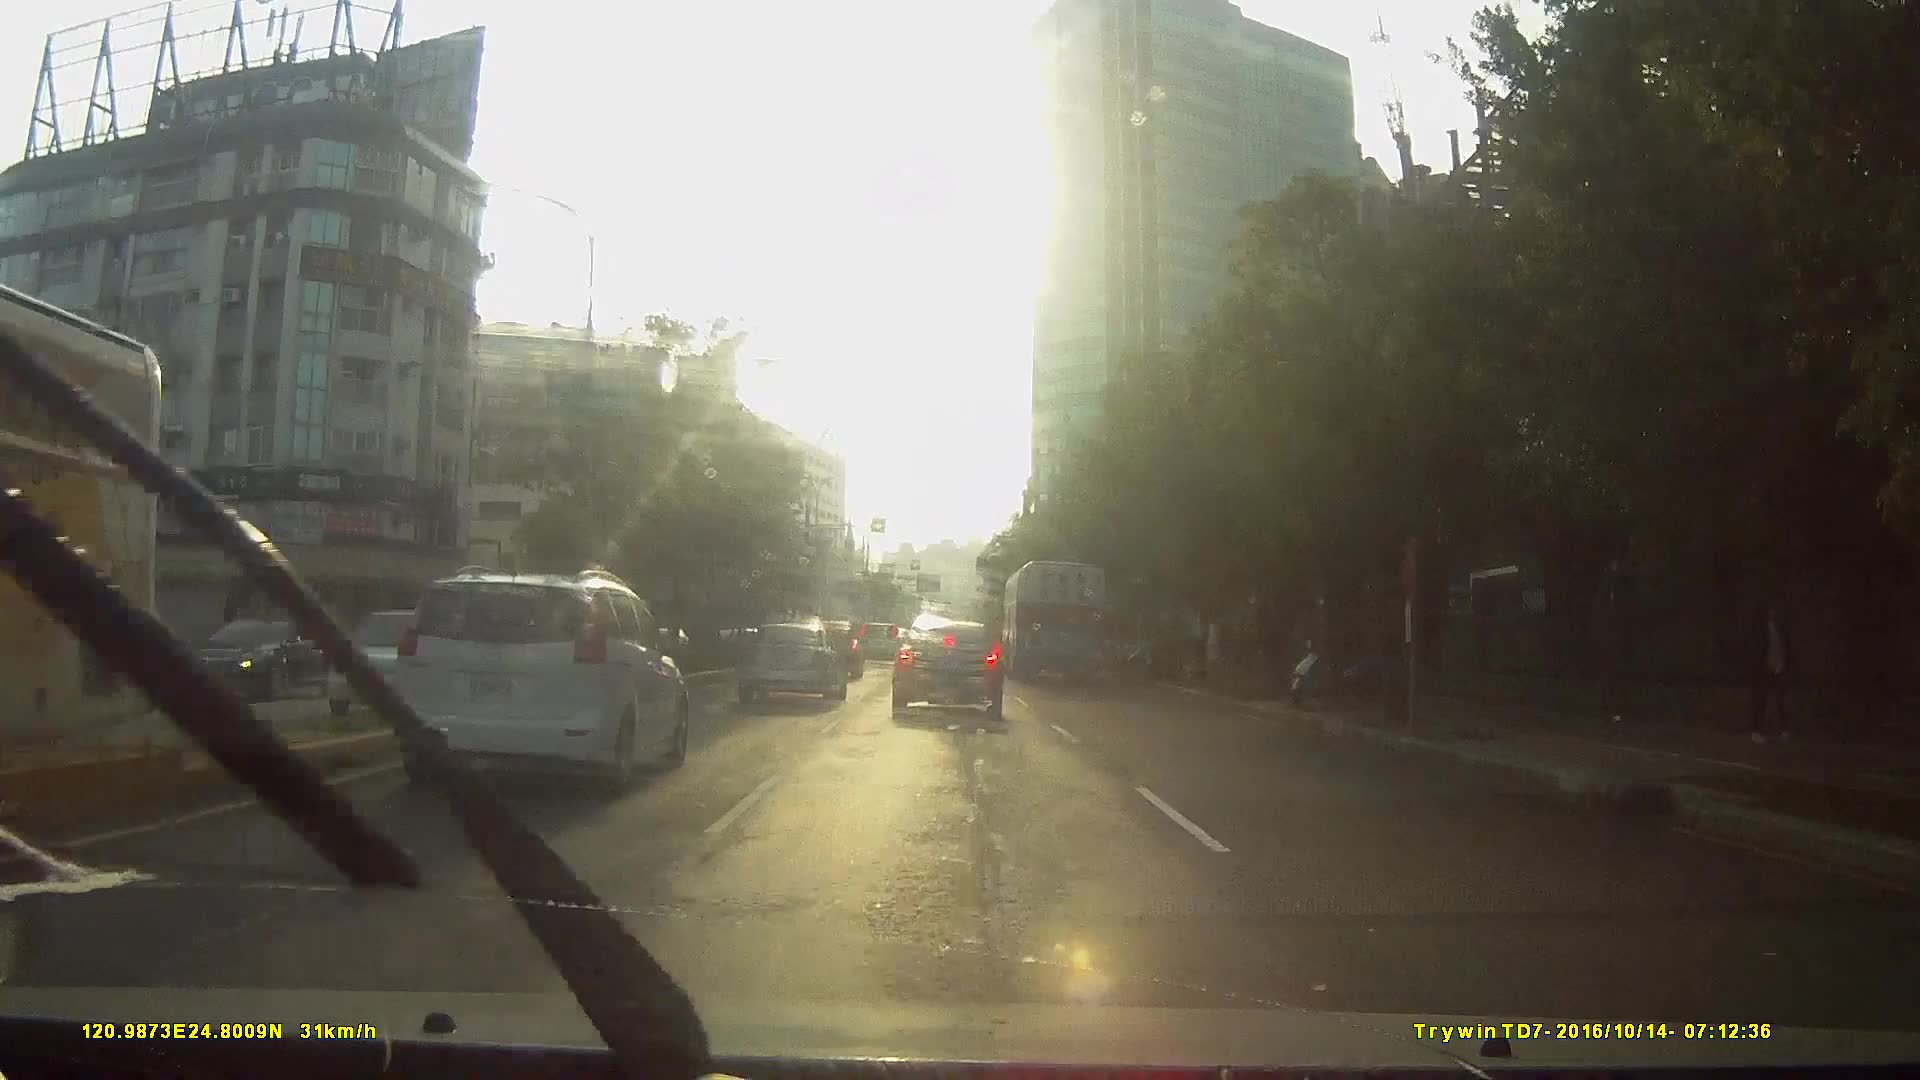pedestrian: (1732, 589, 1804, 752)
vehicle: (250, 556, 684, 868), (1, 285, 184, 823), (387, 564, 685, 791), (309, 603, 499, 717), (168, 612, 357, 704), (1002, 554, 1110, 683), (887, 611, 1003, 717), (732, 616, 843, 701), (852, 615, 901, 664)
